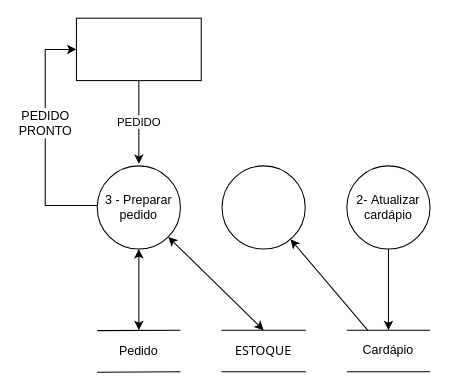
Some shapes in this 449 by 392 pixel diagram are drawn without their labels. The shapes that lost their labels are listed below. From the top down, each one's centre as x and y in pixels, then its label:
At (138,49): "ATENDIMENTO".
At (263,207): "1 - Consultar pratos diários".
